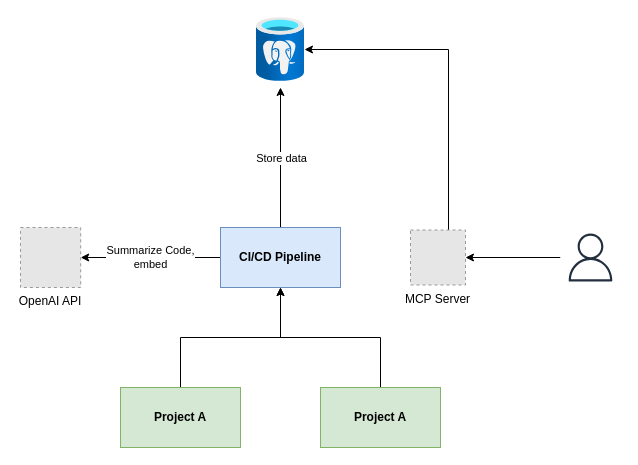
Image size: 638x465. Some labels were removed from this diagram. Grey dashed boxes stand in for pictures. Here are the shapes that lost their labels. From the top down, the centre of each, then its label:
pixel 280 49: pgVector
pixel 590 257: User
